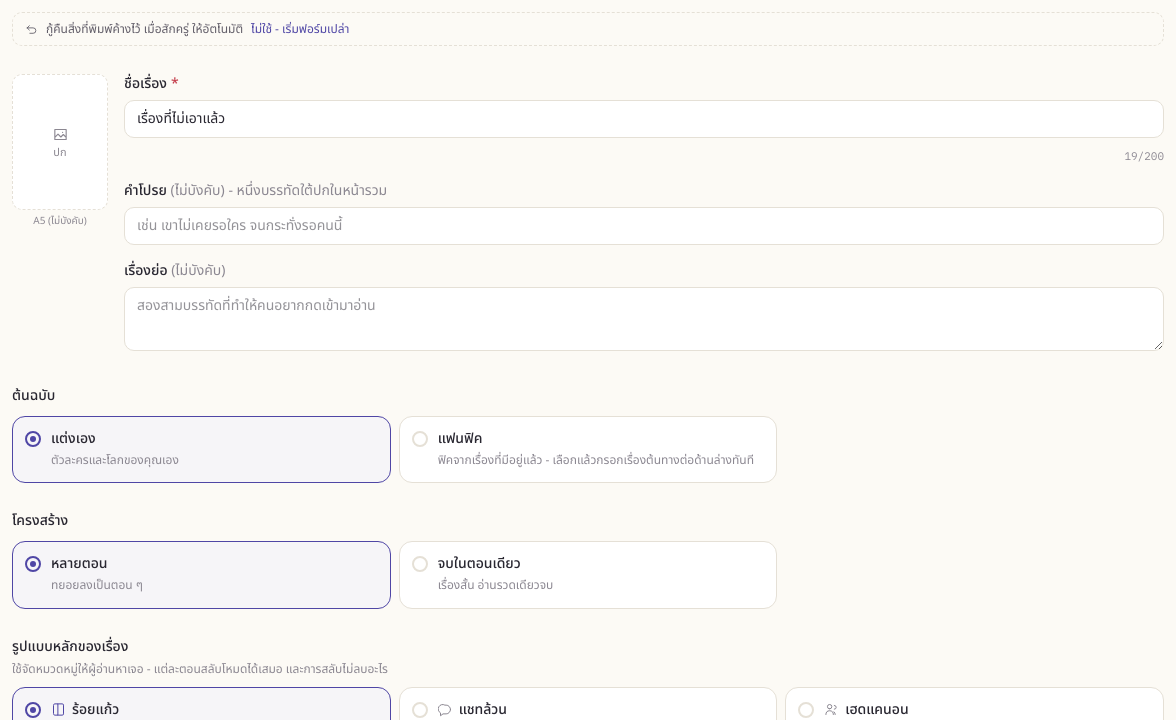
Scenario: the device-local draft (13U) › dismisses the banner together with the draft it announced
This screenshot has width=1176, height=720.
Expected: the text "กู้คืนสิ่งที่พิมพ์ค้างไว้" is shown, [46, 20, 144, 38]
Click the button "ไม่ใช้ - เริ่มฟอร์มเปล่า": point(300, 29) [251, 21, 350, 37]
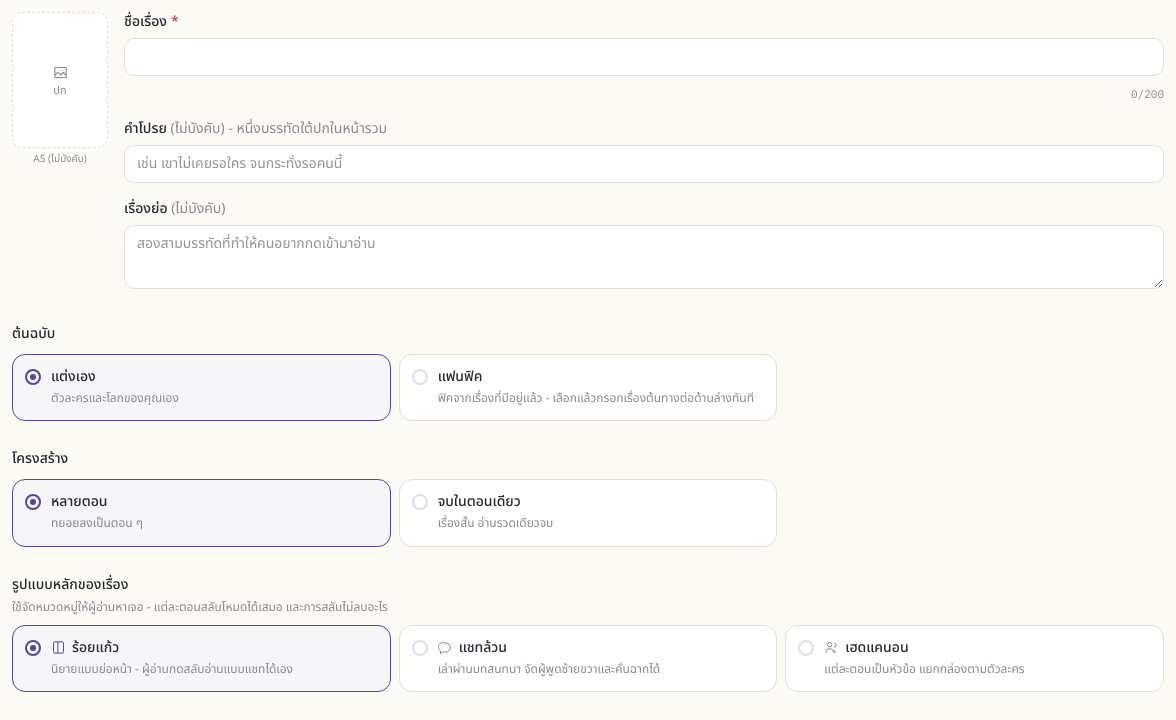
Expected: the text "กู้คืน" is gone
Expected: the field labelled "ชื่อเรื่อง*" is empty, [124, 38, 1164, 76]
